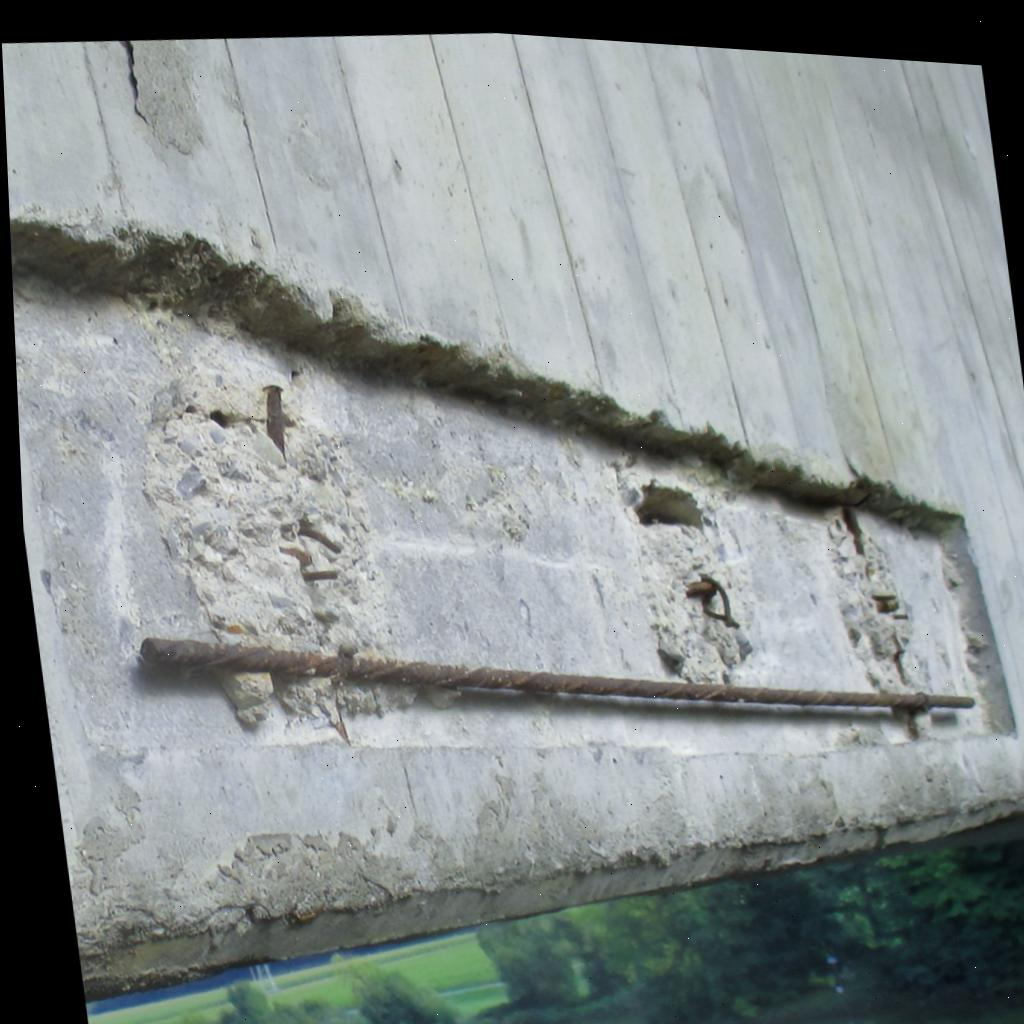exposed_rebar: (139, 636, 975, 710)
